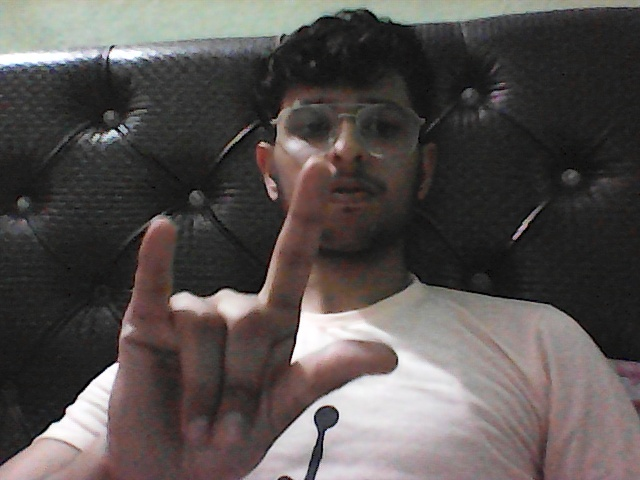iloveyou: (94, 144, 402, 479)
